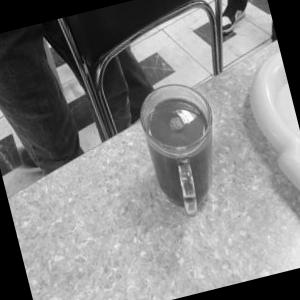coffee: (118, 49, 272, 251)
